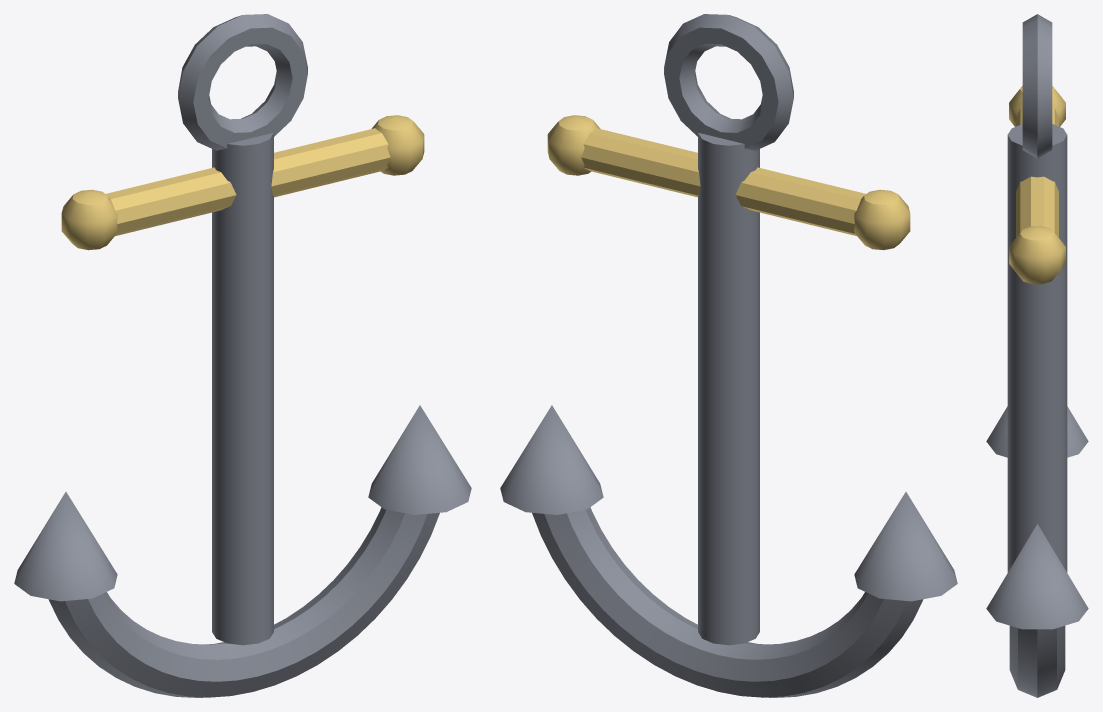
The model's file is Anchor.fbx.
3 renders of one model, left to right at view 1: azimuth 30°, elevation 25°; view 2: azimuth 150°, elevation 25°; view 3: azimuth 270°, elevation 25°, orthographic. The views are drawn at different scales.
Parts seen in each view (by area): view 1: Body.005, Trim.005; view 2: Body.005, Trim.005; view 3: Body.005, Trim.005.
Part boxes in pixels (left/top/right/bottom): Body.005: left=14, top=14, right=471, bottom=697; Trim.005: left=61, top=115, right=424, bottom=250; Body.005: left=500, top=14, right=957, bottom=697; Trim.005: left=547, top=115, right=910, bottom=250; Body.005: left=986, top=14, right=1088, bottom=697; Trim.005: left=1009, top=86, right=1065, bottom=284.
Bounding box in the file's own units: 1.16 × 1.69 × 0.24.
